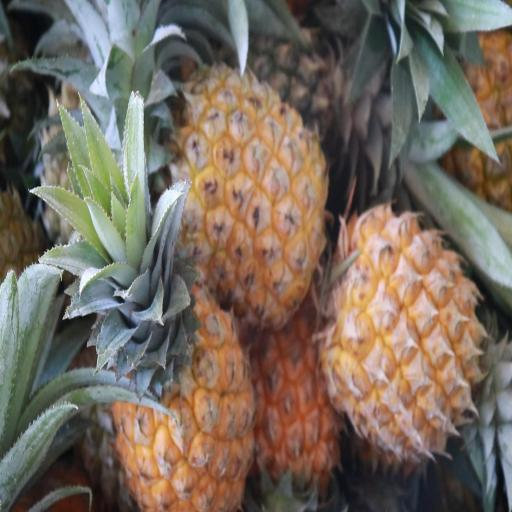Pineapple - v8 v1: (115, 196, 252, 512), (173, 62, 328, 319), (326, 198, 482, 453), (248, 311, 344, 511)
